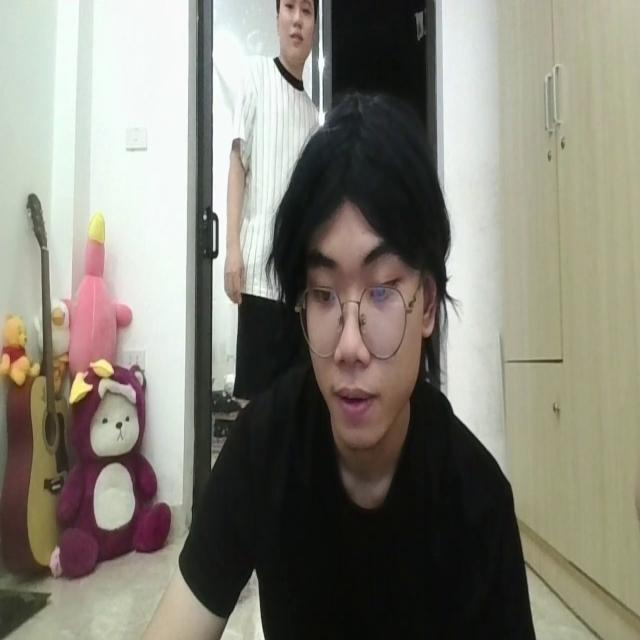extra_person: (223, 0, 326, 276)
student: (162, 106, 532, 640)
